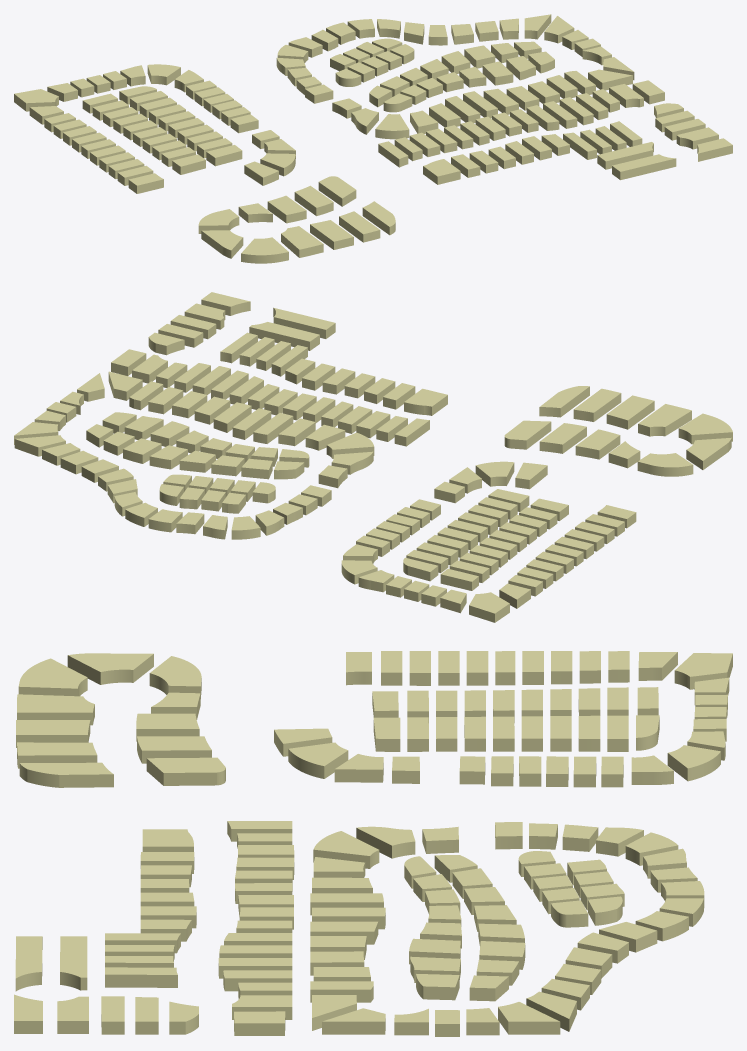
3 renders of one model, top to bottom at view 1: azimuth 30°, elevation 25°; view 2: azimuth 150°, elevation 25°; view 3: azimuth 270°, elevation 25°, orthographic. The views are drawn at different scales.
Parts seen in each view (by area): view 1: SF1; view 2: SF1; view 3: SF1.
Part boxes in pixels (bbox=[...]): SF1: bbox=[14, 14, 732, 263]; SF1: bbox=[14, 292, 732, 622]; SF1: bbox=[14, 651, 732, 1036].
Size of the model in its own units: 494 by 8 by 403.
